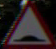Speed Breaker ahead: (5, 2, 47, 43)
